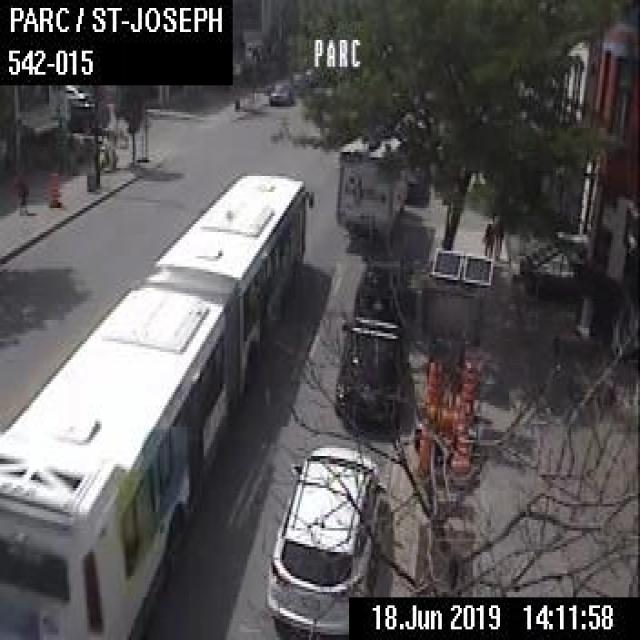bus: (0, 163, 313, 637)
construction: (411, 248, 493, 387), (451, 417, 470, 475), (459, 361, 477, 420), (415, 417, 432, 474), (422, 358, 438, 417)
pedestrian: (15, 170, 27, 213)
vehicle: (258, 438, 389, 638), (332, 312, 410, 429), (334, 128, 406, 248), (354, 252, 408, 324), (393, 112, 434, 202), (67, 93, 109, 130), (266, 78, 291, 104), (63, 82, 88, 100)
